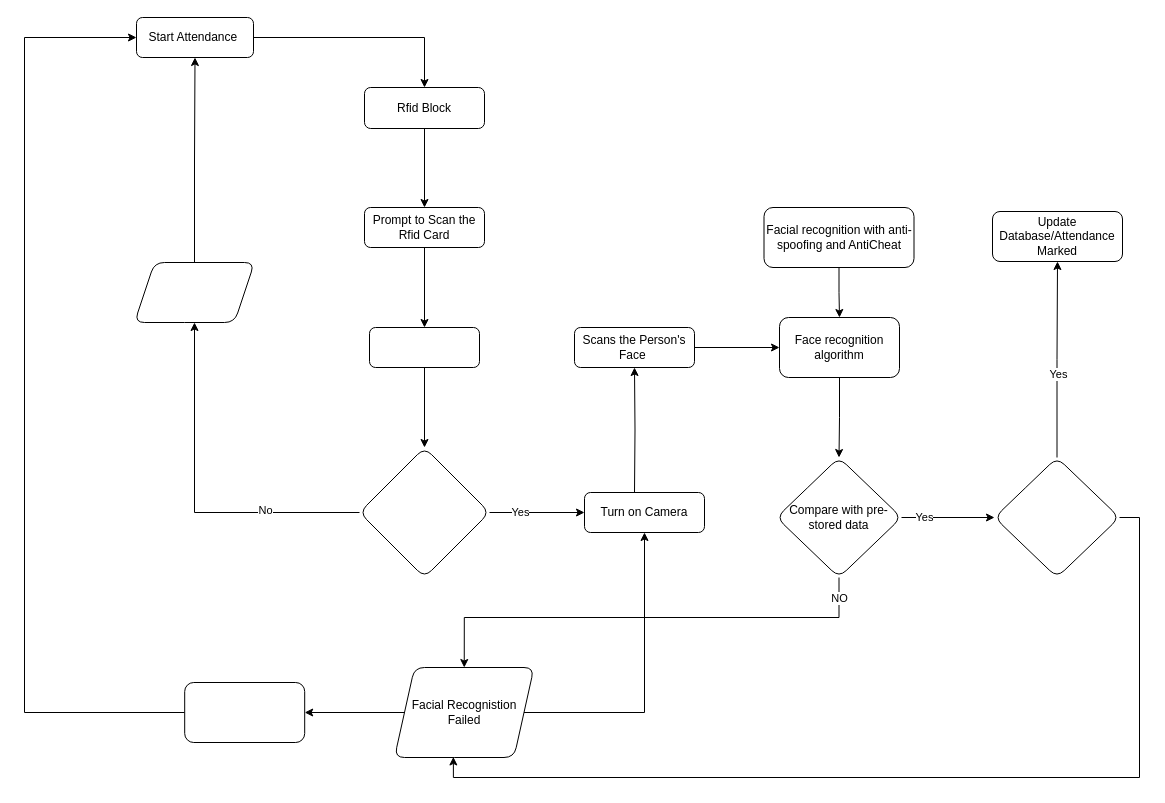
Some shapes in this 1165 by 803 pixel diagram are drawn without their labels. Here are the shapes that lost their labels. From the top down, the centre of each, then its label:
point 194,292: ID Not Found
point 424,347: Scan the Rfid Card
point 424,512: RFID Exists in the Database
point 1057,517: Face Verified
point 244,712: Kill Switch
